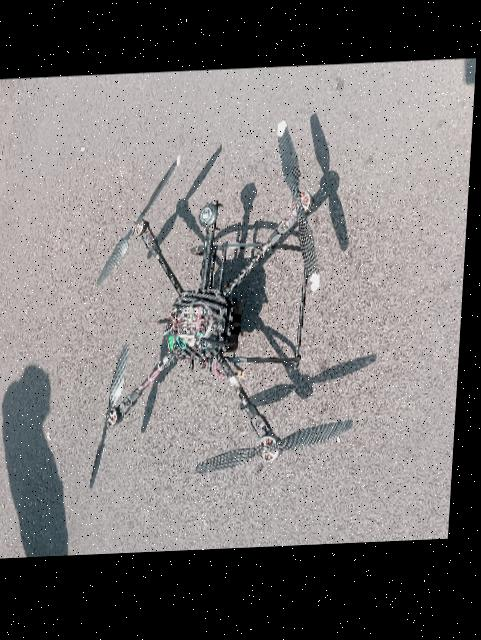drone: (70, 112, 372, 506)
